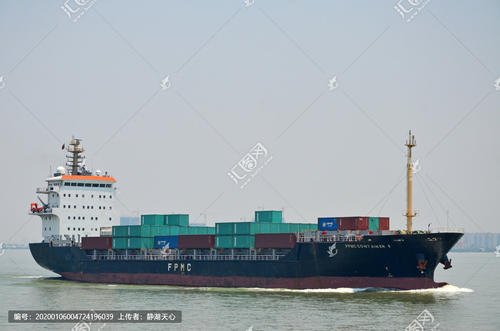Cargoship: (17, 132, 464, 302)
